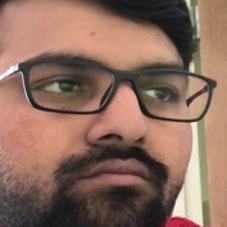awake: (10, 37, 194, 227)
